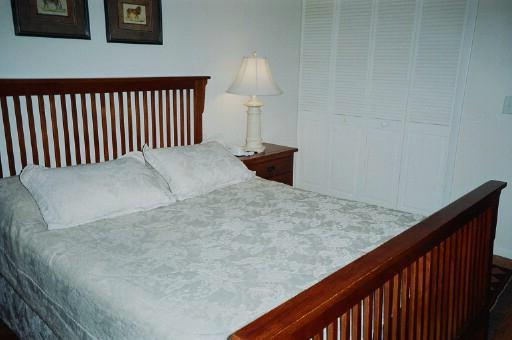Armario: (295, 4, 474, 183)
